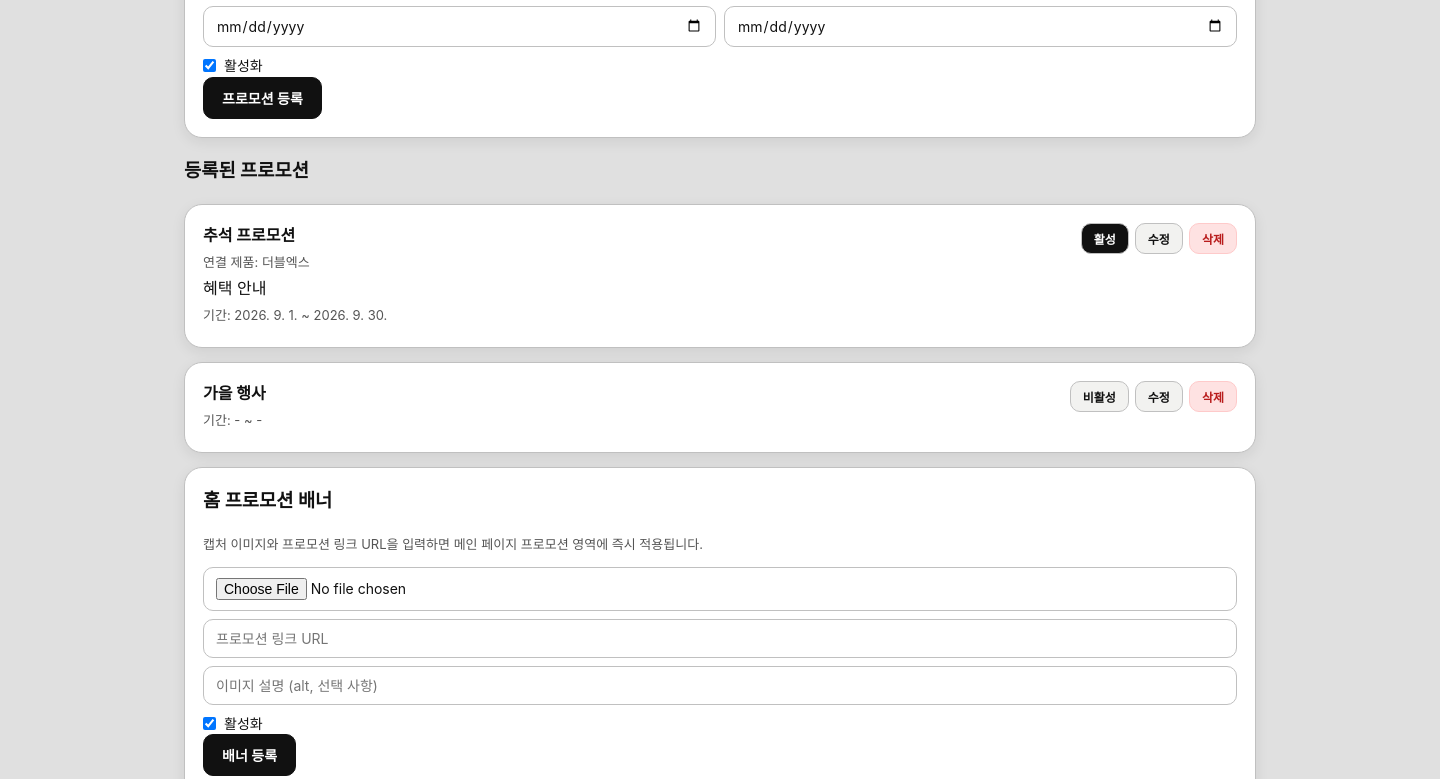
it: Admin 프로모션 관리 › 선택 값이 없는 프로모션을 수정하다가 취소한다
(page scrolled)
Step 1. Click the button "수정" in the row of "가을 행사" → click(1159, 396), box [1135,381,1183,412]
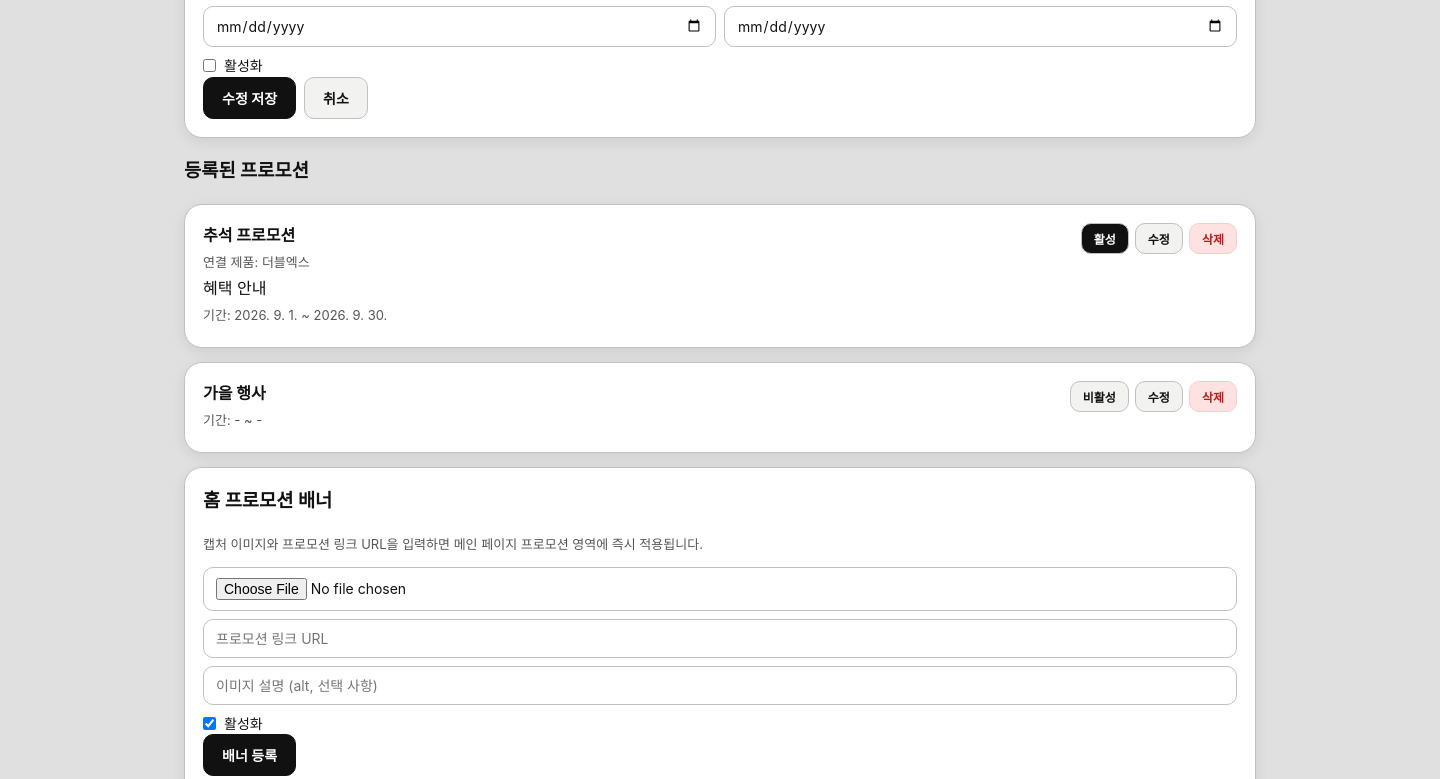
Check: the date field named "종료일" is empty, box [724,6,1237,47]
Check: the checkbox labelled "활성화" below "프로모션 수정" is not checked, box [203,59,216,72]
Step 2. Click the button "취소" → click(336, 98), box [304,77,368,119]
(page scrolled)
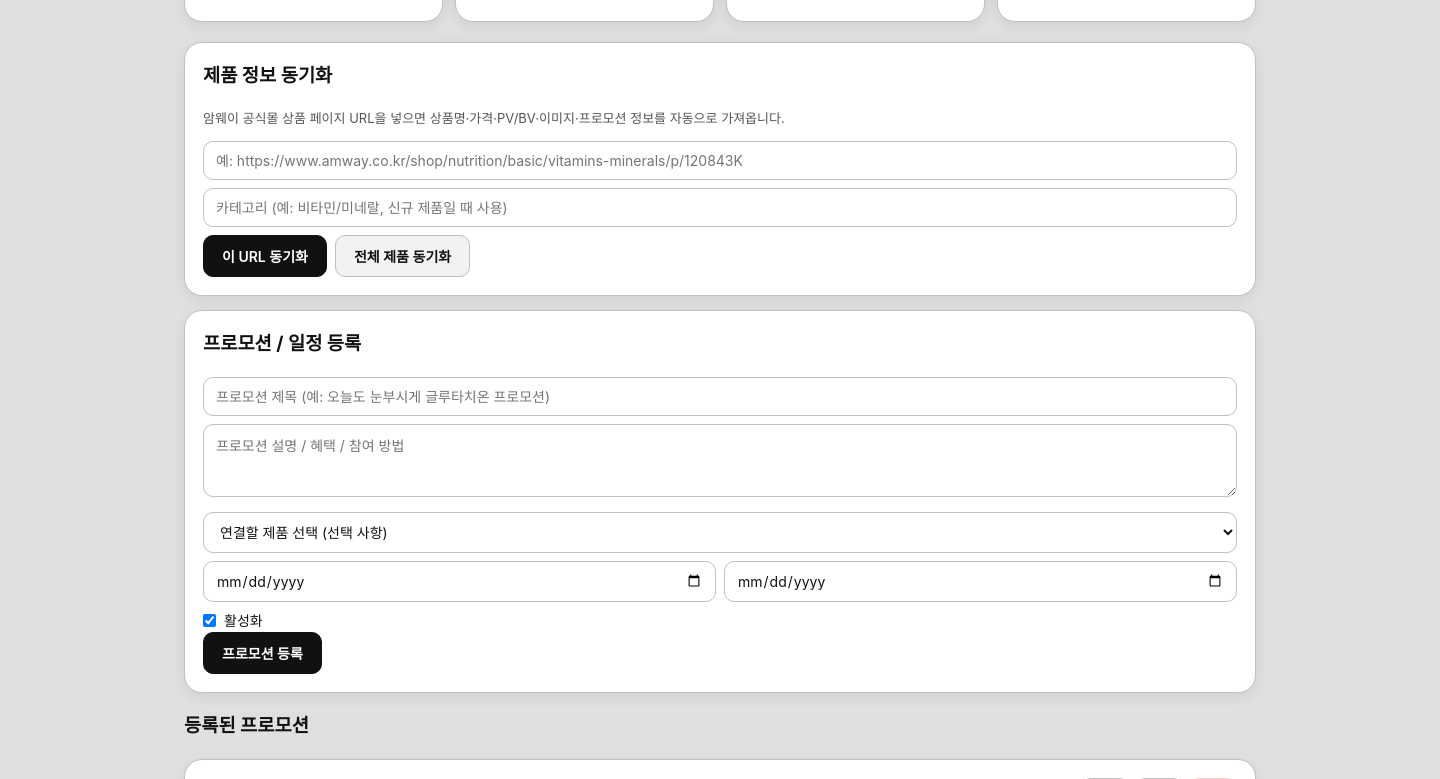
Check: the field with placeholder "프로모션 제목 (예: 오늘도 눈부시게 글루타치온 프로모션)" is empty, box [203,377,1237,416]
Check: the button "취소" is gone
